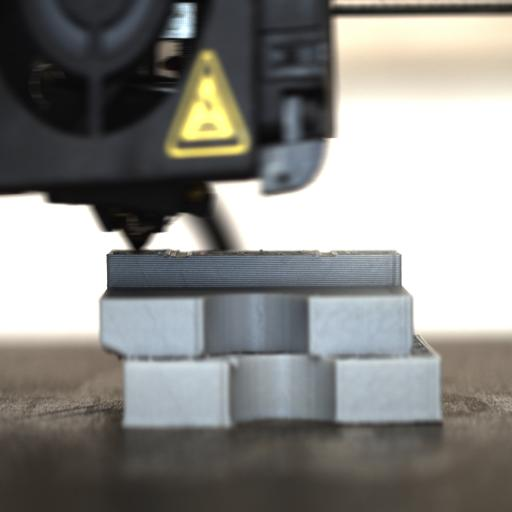layer_shift: (102, 343, 442, 370)
